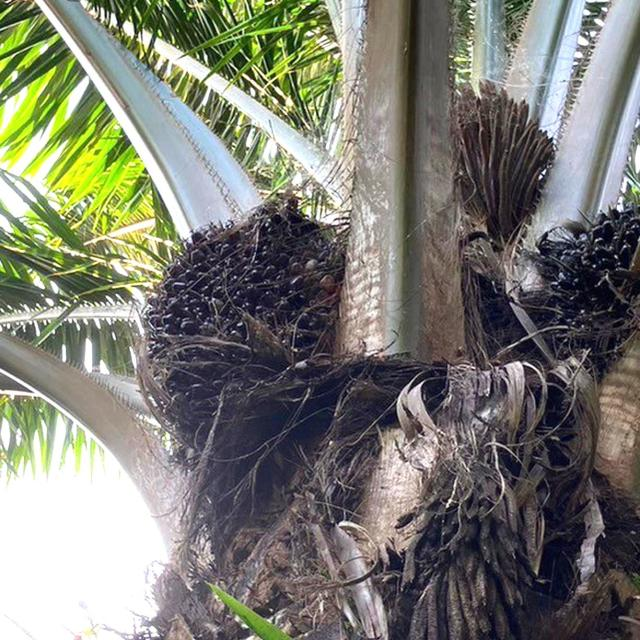ripe: (133, 190, 348, 478)
